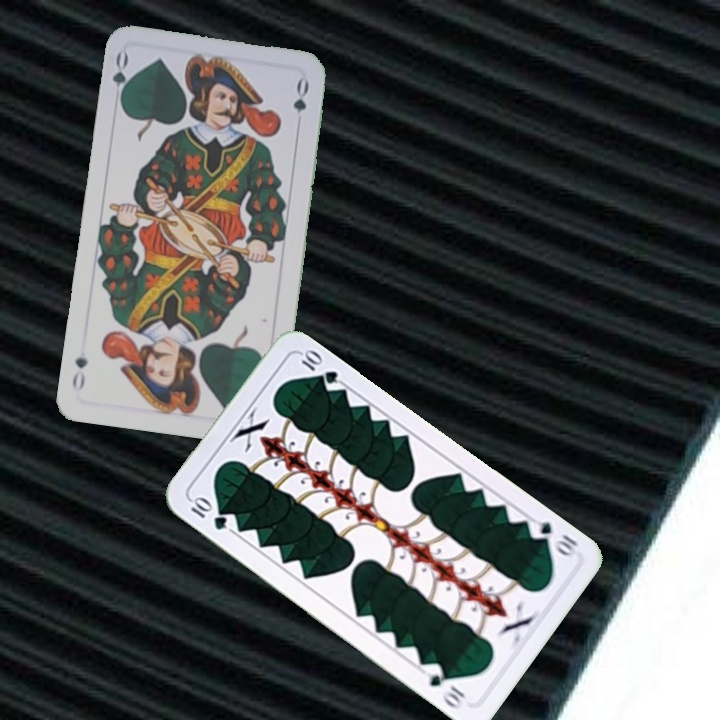G10: (524, 514, 581, 561), (186, 493, 230, 533)
GO: (108, 48, 135, 108)
